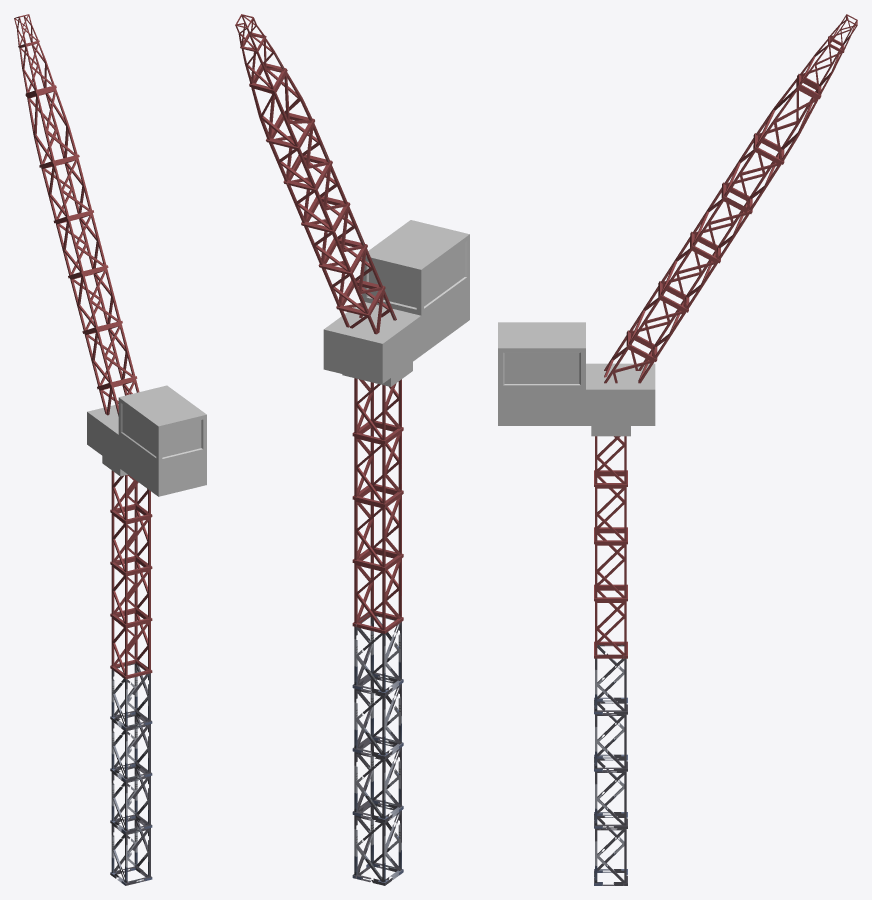
Rendered from Scaffolding10.fbx.
The picture shows the model from 3 angles, left to right: view 1: azimuth 30°, elevation 25°; view 2: azimuth 150°, elevation 25°; view 3: azimuth 270°, elevation 25°; orthographic projection. The views are drawn at different scales.
Parts seen in each view (by area): view 1: Plane.001, Cube, Plane.002; view 2: Plane.001, Cube, Plane.002; view 3: Cube, Plane.002, Plane.001.
Boxes of the visible parts, x1=… form: Plane.001: x1=110, y1=470, x2=152, y2=885; Cube: x1=87, y1=385, x2=206, y2=496; Plane.002: x1=14, y1=14, x2=139, y2=416; Plane.001: x1=352, y1=378, x2=403, y2=885; Cube: x1=323, y1=220, x2=469, y2=386; Plane.002: x1=235, y1=14, x2=396, y2=334; Cube: x1=498, y1=322, x2=655, y2=436; Plane.002: x1=604, y1=14, x2=857, y2=383; Plane.001: x1=594, y1=436, x2=627, y2=885.
Size of the model in its own units: 296 by 4571 by 1728.
